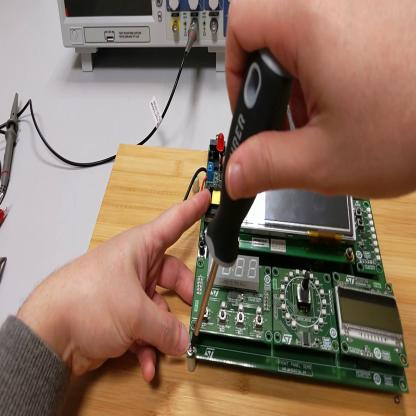hand: (219, 3, 416, 204), (54, 188, 212, 382)
low voltage board: (184, 134, 409, 394)
oscilloscope: (58, 4, 232, 70)
oscilloscope probe tip: (2, 91, 21, 200)
pliers: (1, 258, 11, 287)
screwdriver-: (191, 52, 293, 348)
working area: (61, 145, 416, 416)
